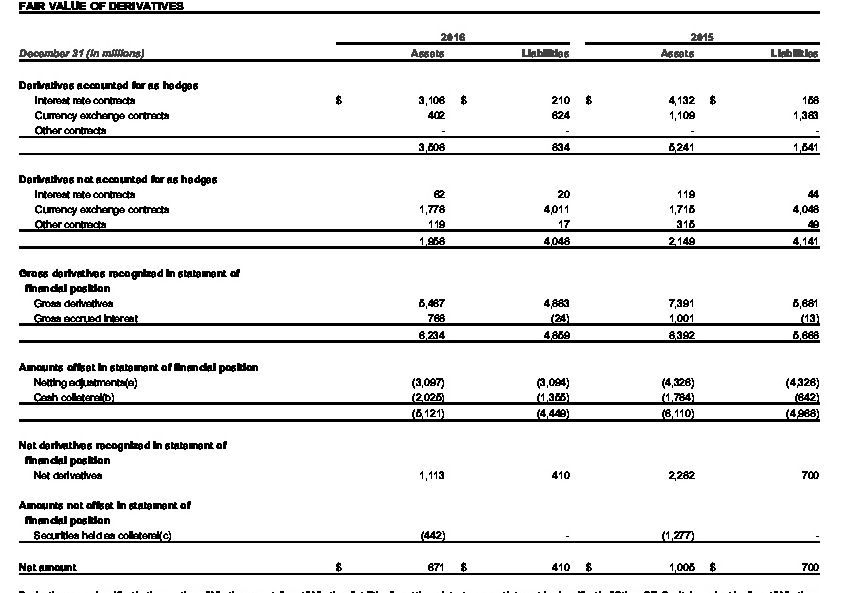table: (0, 0, 843, 593)
